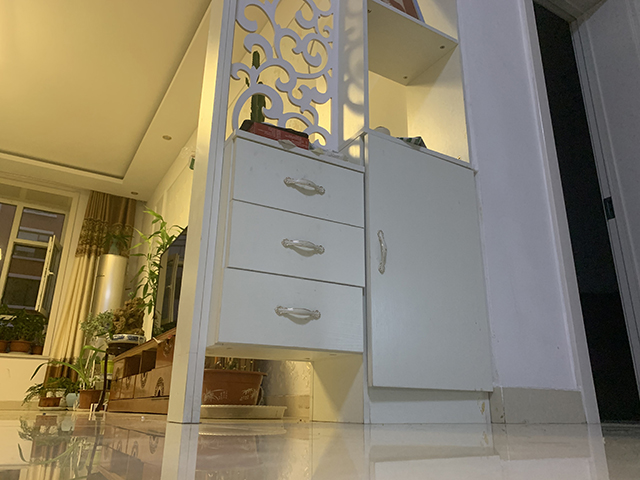cabinet: (184, 137, 497, 426), (106, 328, 268, 415)
curtain: (37, 189, 137, 409)
